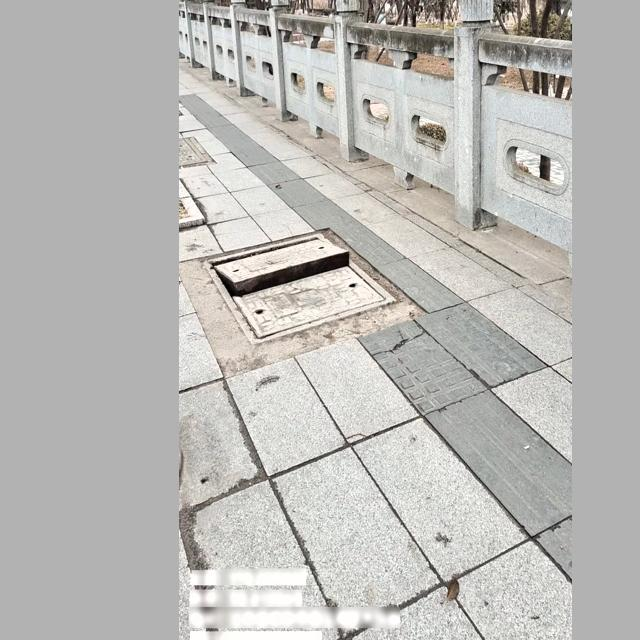uncovered: (200, 228, 397, 343)
